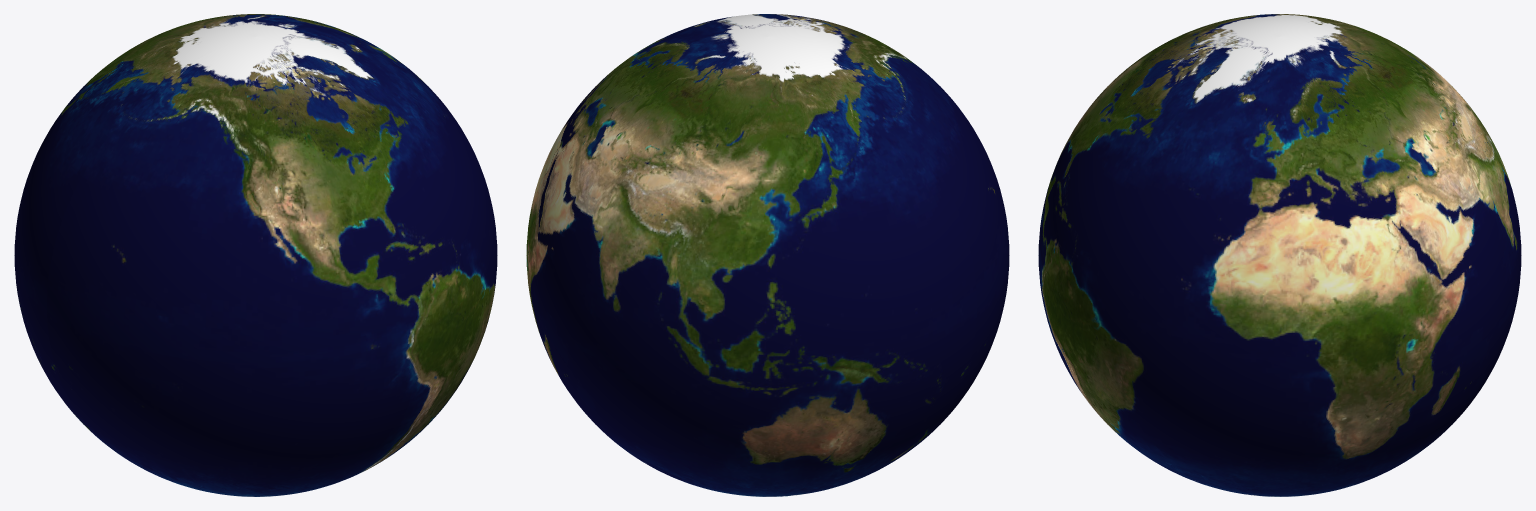
The model's file is earth.glb.
3 renders of one model, left to right at view 1: azimuth 30°, elevation 25°; view 2: azimuth 150°, elevation 25°; view 3: azimuth 270°, elevation 25°, orthographic.
Visible parts, largest first — view 1: Earth; view 2: Earth; view 3: Earth.
Boxes of the visible parts, box(x1,y1,x2,y2) form: Earth: box(14, 14, 497, 496); Earth: box(526, 14, 1009, 496); Earth: box(1038, 14, 1521, 496).
Size of the model in its own units: 2 by 2 by 2.
Materials: 1 (1 with a texture image).
